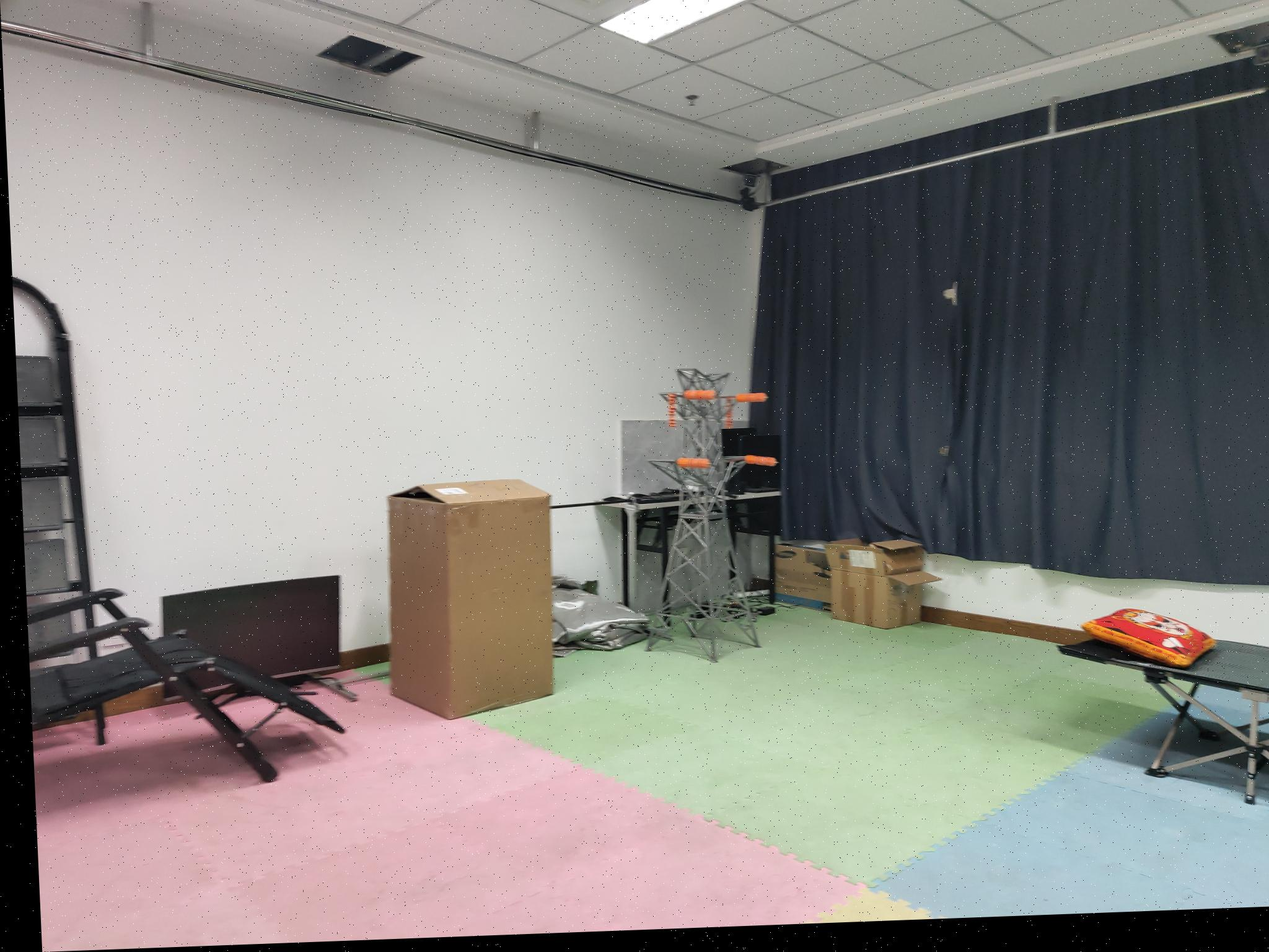tower: (633, 366, 761, 659)
